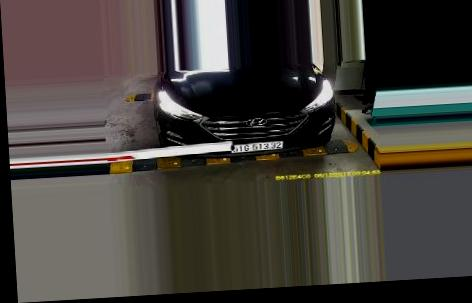License_Plate: (226, 138, 285, 154)
